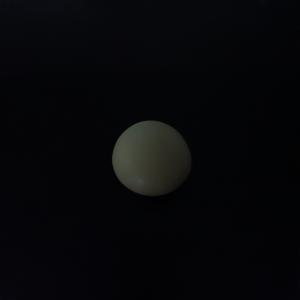Egg: (105, 114, 192, 198)
